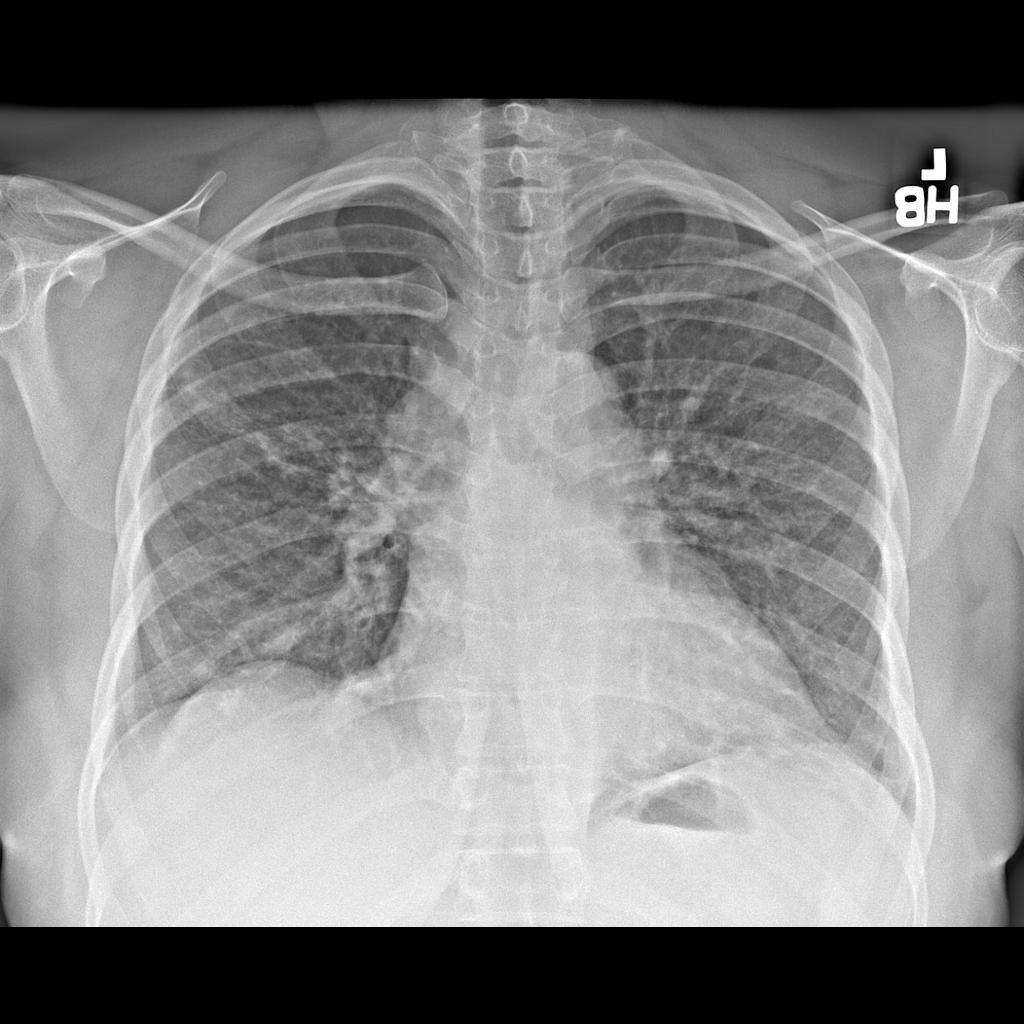Nodule: (277, 426, 315, 458), (269, 634, 298, 652)
